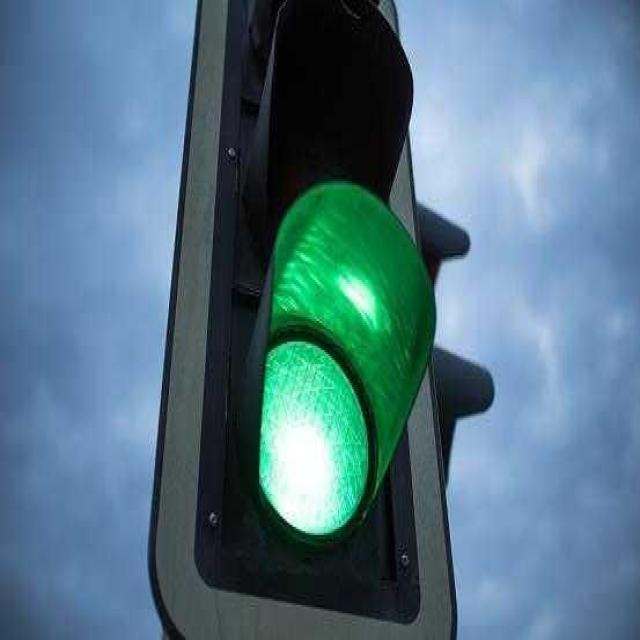Traffic Light -Green-: (214, 132, 438, 584), (229, 307, 396, 568)
